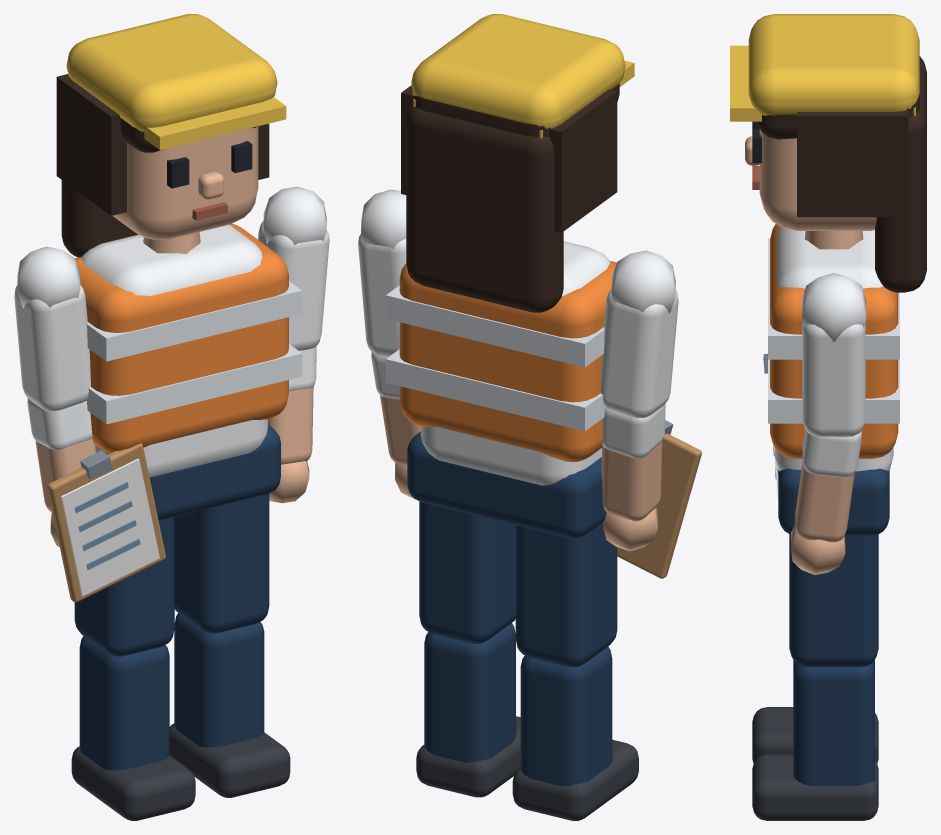
Rendered from persona_inspectora.glb.
3 views of the same model, side by side, from view 1: azimuth 30°, elevation 25°; view 2: azimuth 150°, elevation 25°; view 3: azimuth 270°, elevation 25° (orthographic).
Bounding box in the file's own units: 0.9009 × 2.03 × 0.4876.
